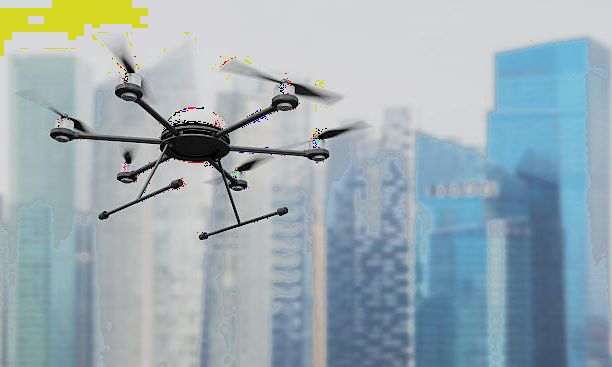Drone: (15, 30, 368, 240)
